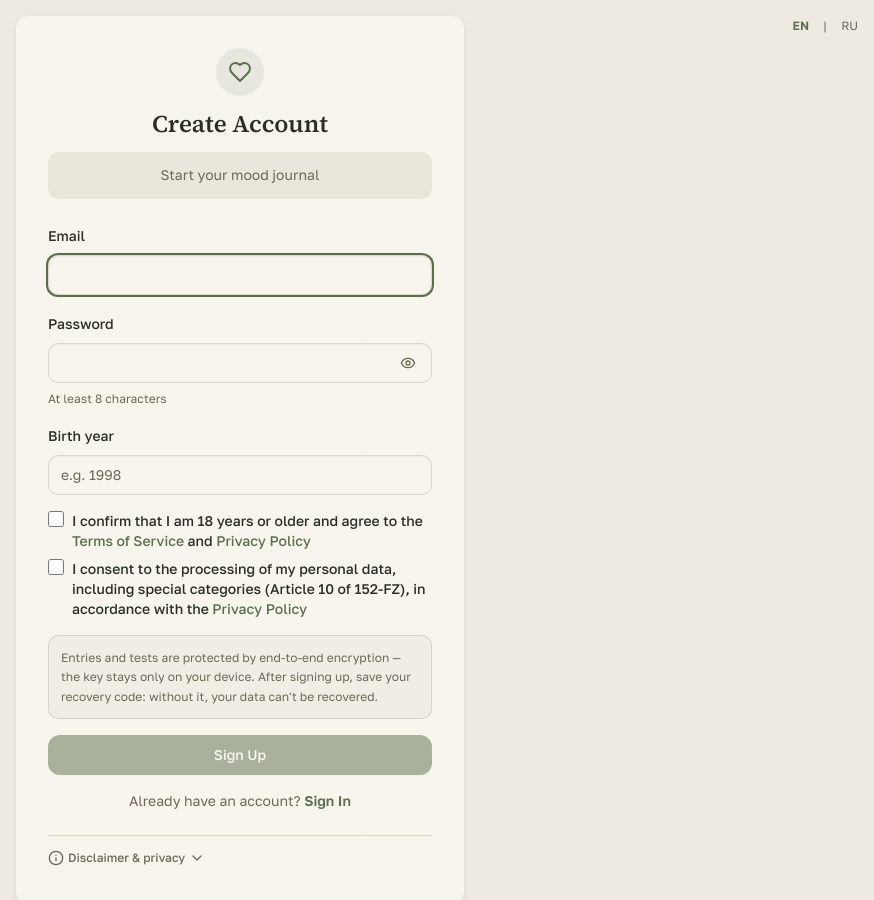
Test case: RegisterPage › disables submit until both consents are confirmed
The width and height of the screenshot is (874, 900).
Expected: the button "Sign Up" is disabled, [48,735,432,775]
Click the 1st checkbox at (56, 519), box [48,511,64,527]
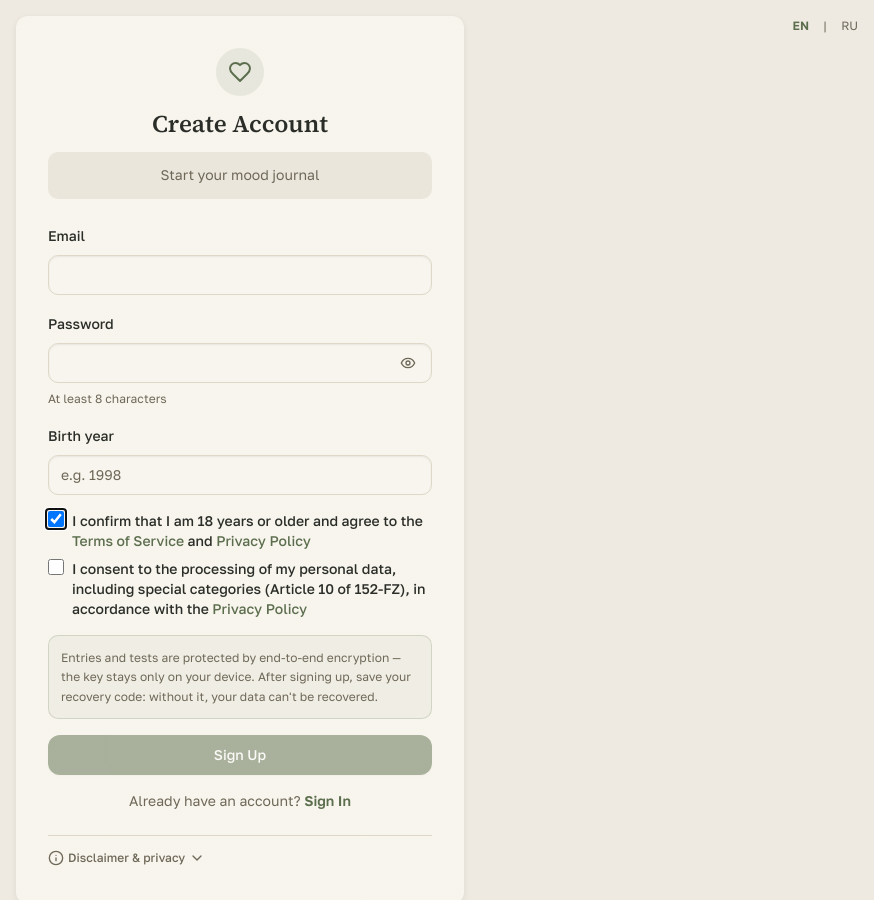
Expected: the button "Sign Up" is disabled, [48,735,432,775]
Click the 2nd checkbox at (56, 567), box [48,559,64,575]
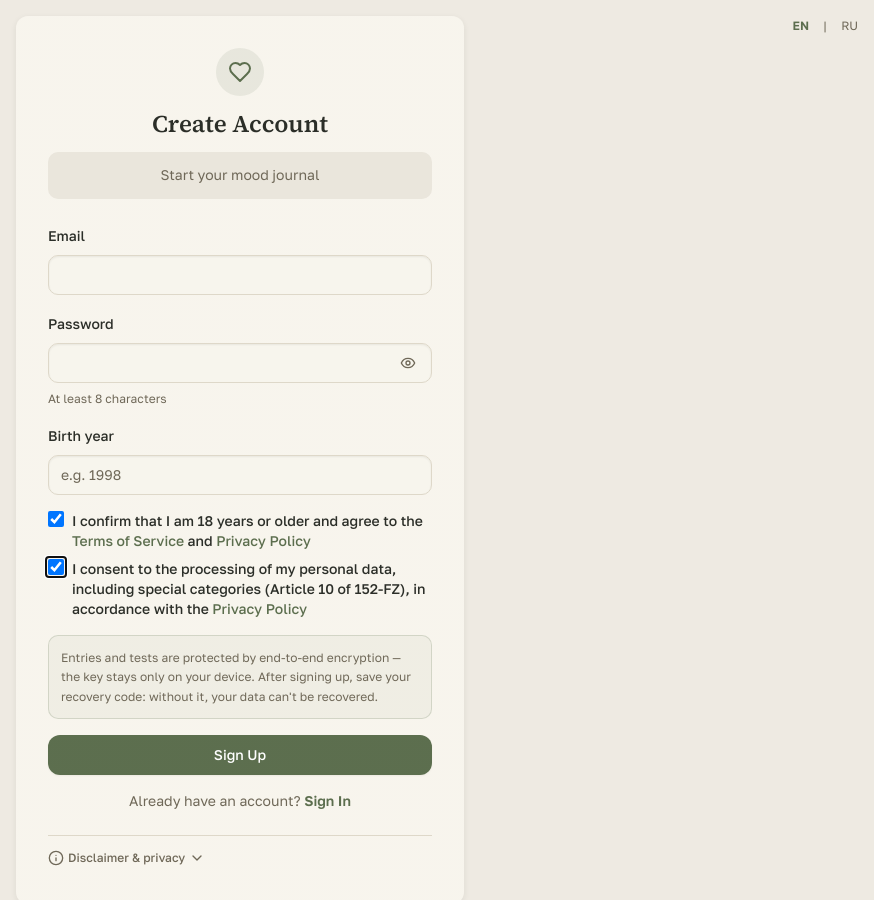
Now the button "Sign Up" is enabled, box [48,735,432,775]
